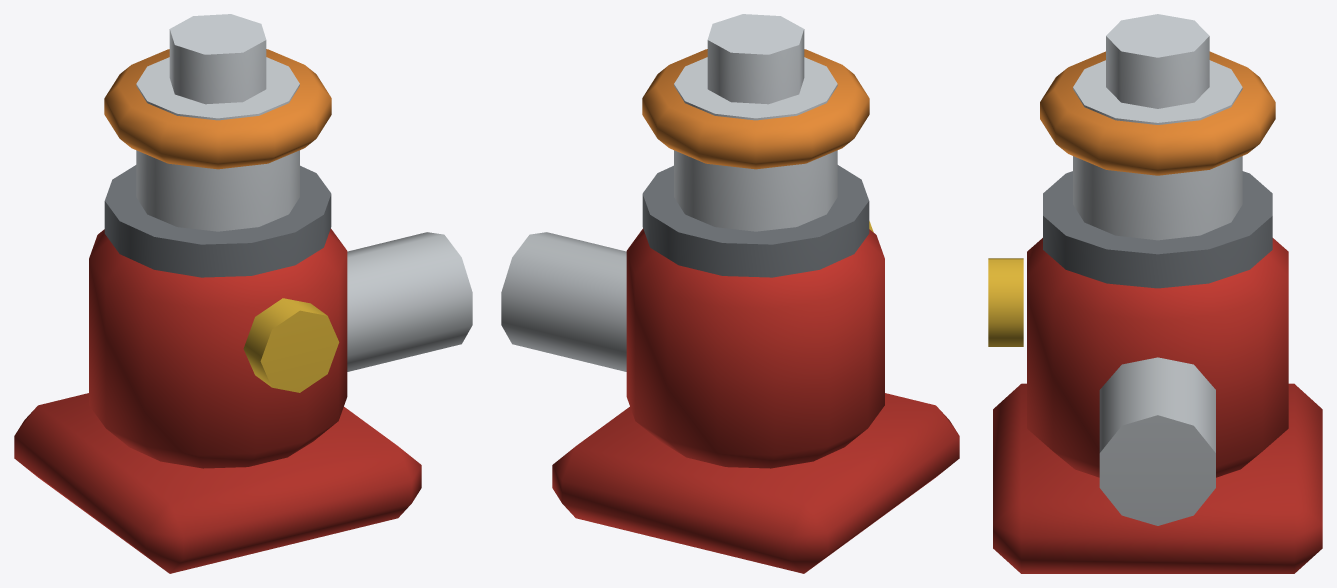
The model's file is SM_BottleJack_01.glb.
The picture shows the model from 3 angles, left to right: view 1: azimuth 30°, elevation 25°; view 2: azimuth 150°, elevation 25°; view 3: azimuth 270°, elevation 25°; orthographic projection. The views are drawn at different scales.
Visible parts, largest first — view 1: SM_BottleJack_01; view 2: SM_BottleJack_01; view 3: SM_BottleJack_01.
Boxes of the visible parts, bbox=[...] form: SM_BottleJack_01: bbox=[14, 14, 472, 573]; SM_BottleJack_01: bbox=[501, 14, 959, 573]; SM_BottleJack_01: bbox=[988, 14, 1322, 573].
Size of the model in its own units: 0.185 by 0.225 by 0.142.
Materials: 1 (1 with a texture image).
